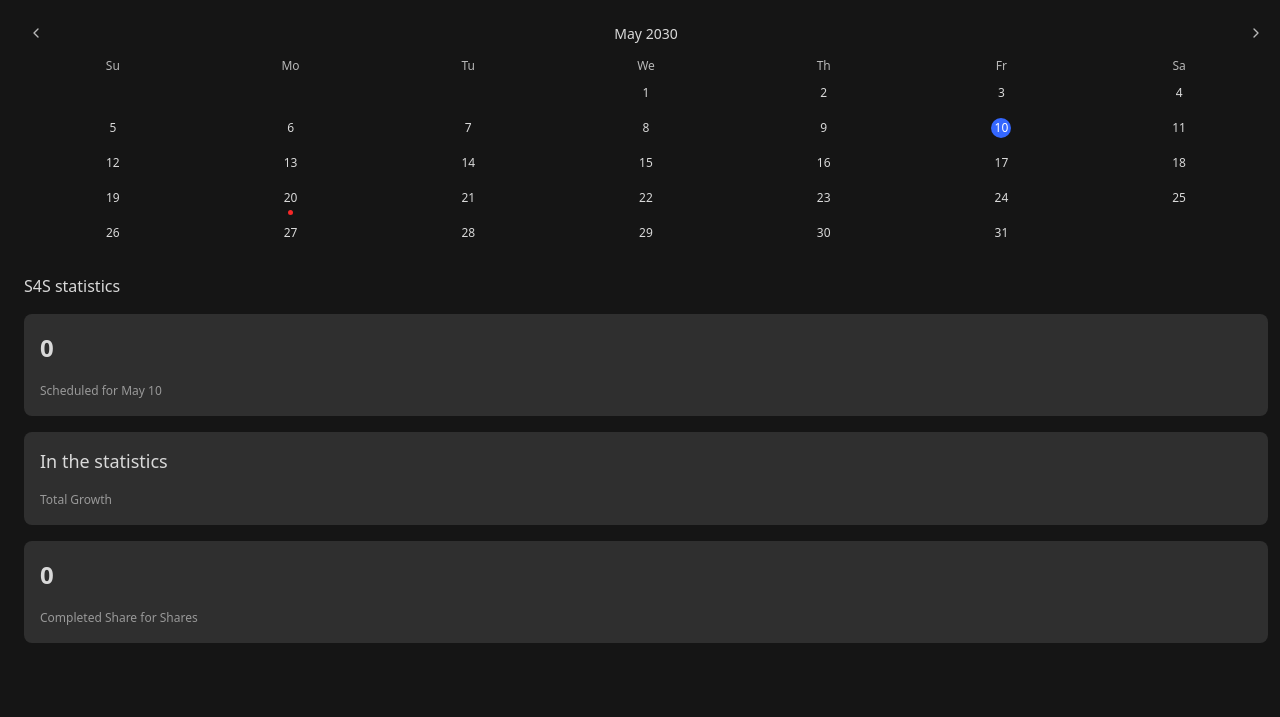
Test: S4SSchedule › says when the partner's own post of the pair was found deleted, archived or edited
Click the button named "May 20, 2030" at (291, 198), box [281,188,301,208]
(page scrolled)
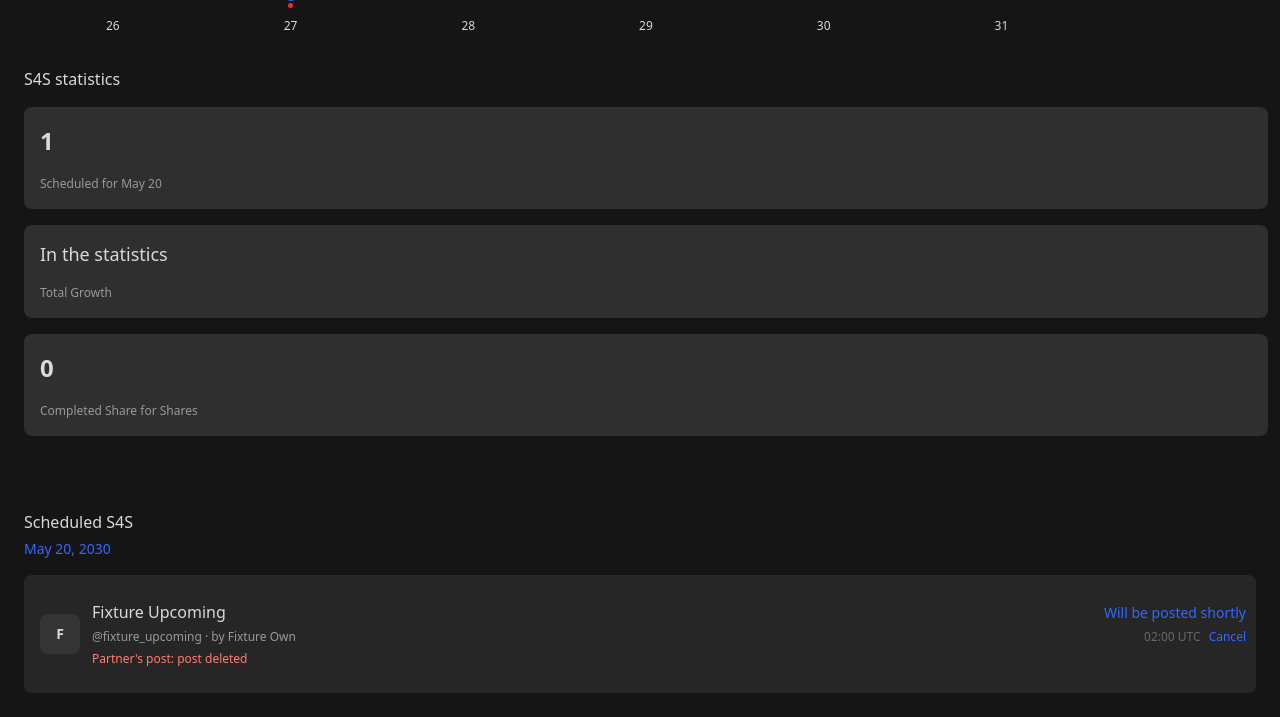
expect the text "Partner's post: post deleted" is shown: met, box [92,650,248,667]
